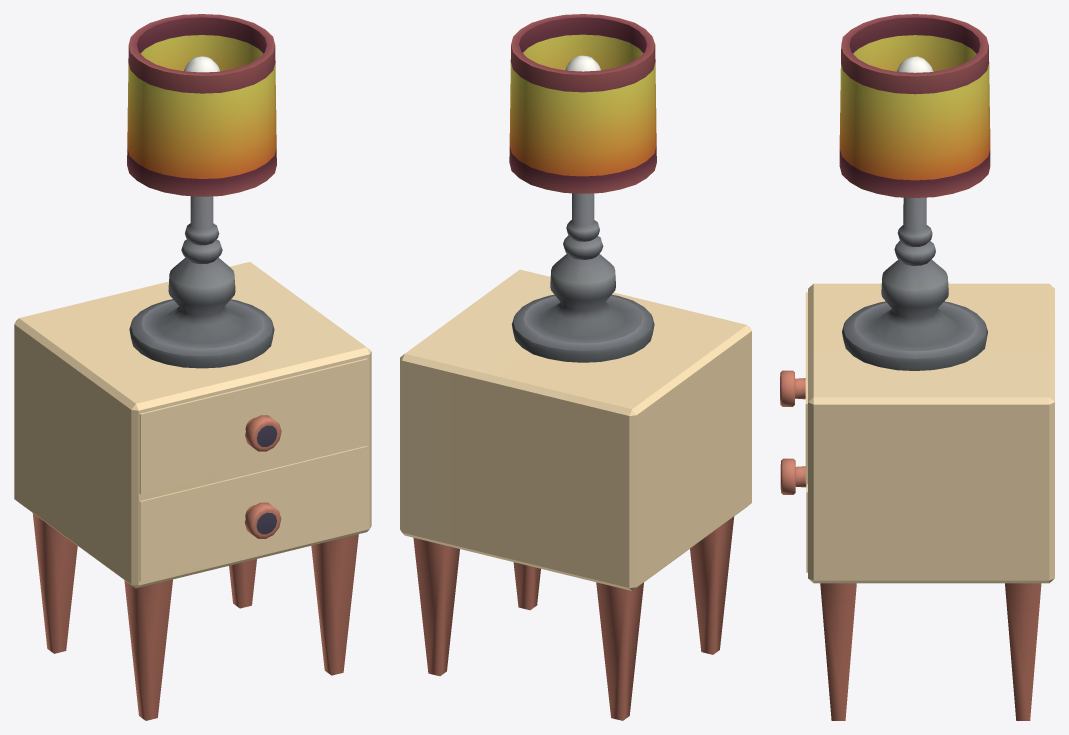
File: Bed_lamp.fbx
The picture shows the model from 3 angles, left to right: view 1: azimuth 30°, elevation 25°; view 2: azimuth 150°, elevation 25°; view 3: azimuth 270°, elevation 25°; orthographic projection. The views are drawn at different scales.
Parts seen in each view (by area): view 1: Bed_lamp; view 2: Bed_lamp; view 3: Bed_lamp.
Boxes of the visible parts, box(x1,y1,x2,y2) form: Bed_lamp: box(14, 14, 371, 720); Bed_lamp: box(400, 14, 751, 720); Bed_lamp: box(780, 14, 1054, 720).
Size of the model in its own units: 5.25 by 12.98 by 5.16.
Materials: 1 (1 with a texture image).
